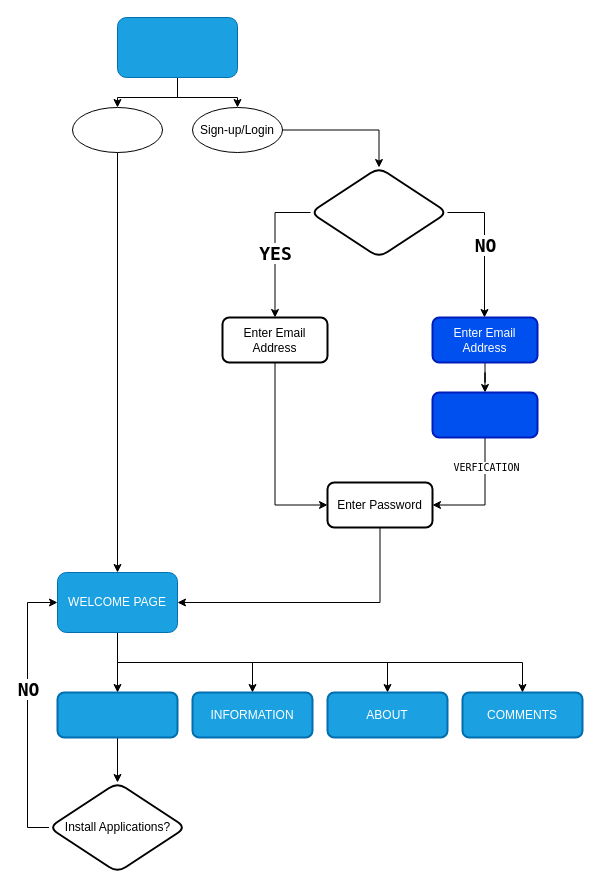
Some shapes in this 601 by 891 pixel diagram are drawn without their labels. The centre of each missing label's shape, as x and y in pixels:
"Already has account?" goes at (378,212).
"APPLICATIONS" goes at (117,714).
"Continue as Guest" goes at (117,129).
"Create Password" goes at (484,414).
"HOME" goes at (177,47).
